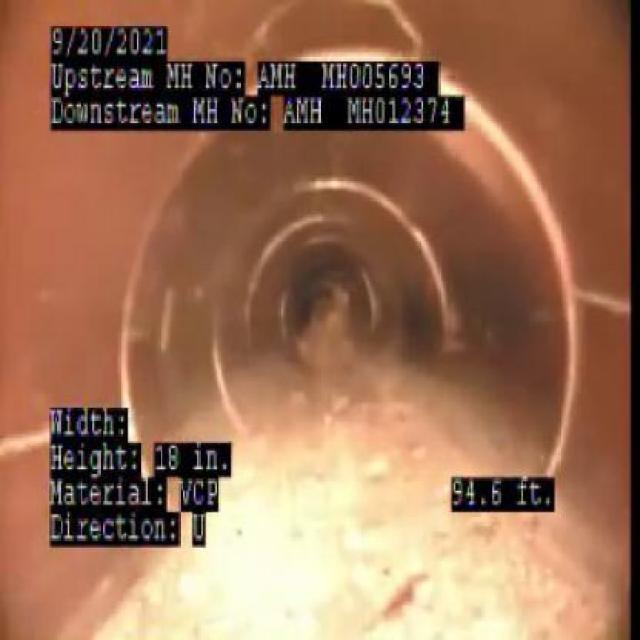Crack: (572, 272, 638, 330), (0, 409, 51, 477), (374, 0, 431, 52)
Joint offset: (488, 104, 572, 276)
